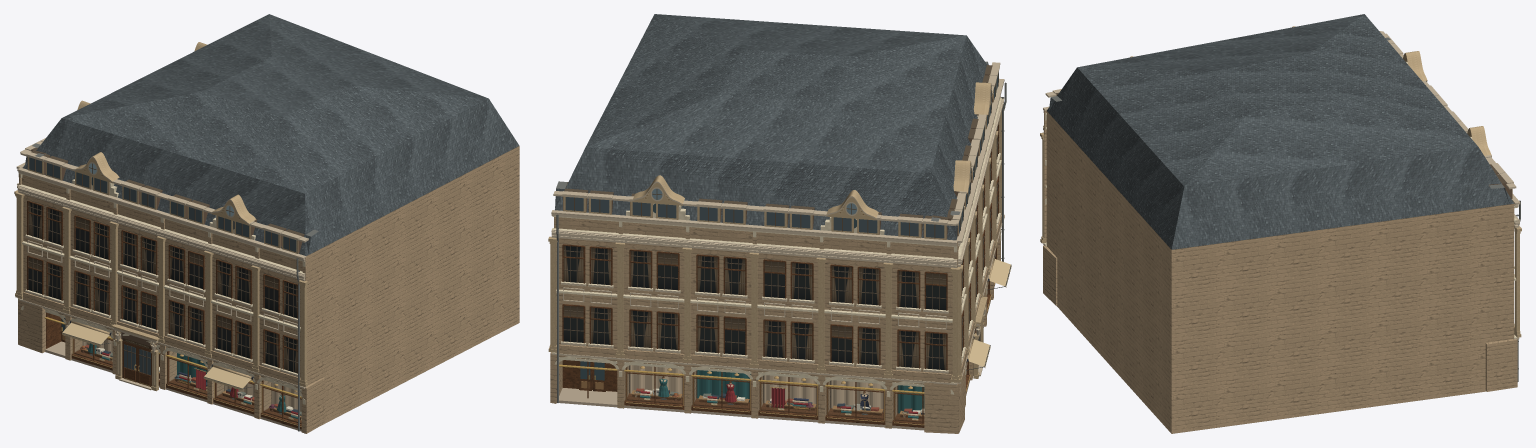
File: sg_nah.glb
3 views of the same model, side by side, from view 1: azimuth 30°, elevation 25°; view 2: azimuth 150°, elevation 25°; view 3: azimuth 270°, elevation 25° (orthographic). The views are drawn at different scales.
Parts seen in each view (by area): view 1: SG_Bestand_Laden_Auslagen, SG_Platzfront_Detail; view 2: SG_Bestand_Laden_Auslagen, SG_Seitenfront_Detail, SG_Platzfront_Detail; view 3: SG_Bestand_Laden_Auslagen, SG_Seitenfront_Detail, SG_Platzfront_Detail.
Boxes of the visible parts, x1,y1,x2,y2 form: SG_Bestand_Laden_Auslagen: (18, 14, 519, 433); SG_Platzfront_Detail: (15, 143, 318, 431); SG_Bestand_Laden_Auslagen: (550, 14, 1001, 433); SG_Seitenfront_Detail: (548, 175, 960, 426); SG_Platzfront_Detail: (931, 61, 1011, 392); SG_Bestand_Laden_Auslagen: (1043, 14, 1518, 433); SG_Seitenfront_Detail: (1381, 31, 1521, 381); SG_Platzfront_Detail: (1040, 26, 1390, 245).
Size of the model in its own units: 30.48 by 17.6 by 30.36.
Materials: 49 (14 with a texture image).
